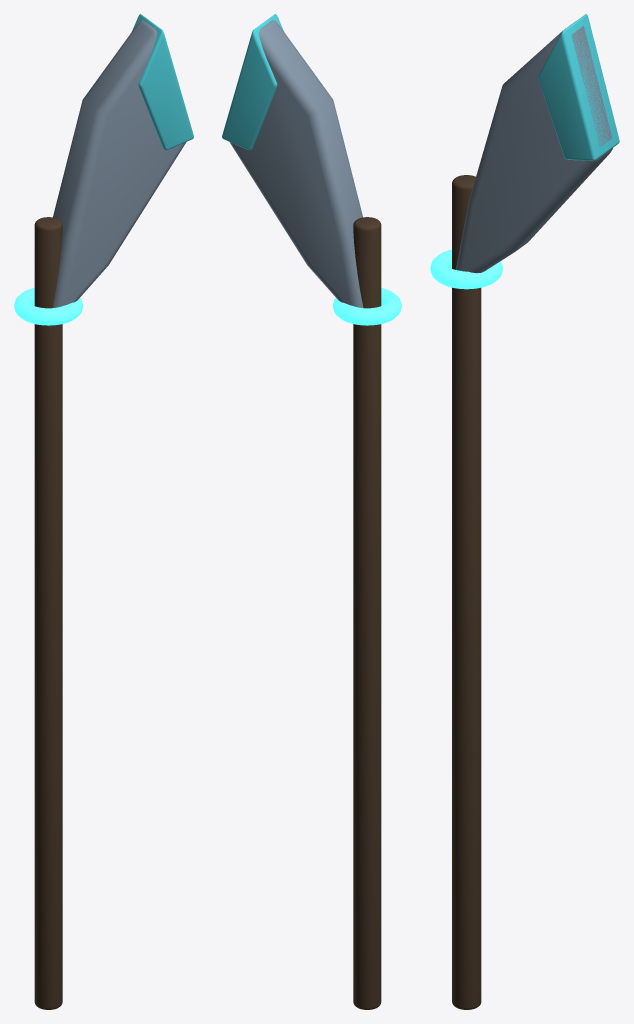
The model's file is spear_v3.glb.
3 views of the same model, side by side, from view 1: azimuth 30°, elevation 25°; view 2: azimuth 150°, elevation 25°; view 3: azimuth 330°, elevation 25° (orthographic). The views are drawn at different scales.
Visible parts, largest first — view 1: SHAFT_SECONDARY, GLAIVE_BLADE_PRIMARY, GLAIVE_EDGE_ACCENT, GLAIVE_COLLAR_EMISSIVE; view 2: SHAFT_SECONDARY, GLAIVE_BLADE_PRIMARY, GLAIVE_EDGE_ACCENT, GLAIVE_COLLAR_EMISSIVE; view 3: SHAFT_SECONDARY, GLAIVE_BLADE_PRIMARY, GLAIVE_EDGE_ACCENT, GLAIVE_COLLAR_EMISSIVE.
Boxes of the visible parts, box(x1,y1,x2,y2) form: SHAFT_SECONDARY: box(34, 217, 62, 1009); GLAIVE_BLADE_PRIMARY: box(49, 20, 186, 326); GLAIVE_EDGE_ACCENT: box(132, 14, 193, 150); GLAIVE_COLLAR_EMISSIVE: box(14, 288, 82, 325); SHAFT_SECONDARY: box(353, 217, 381, 1009); GLAIVE_BLADE_PRIMARY: box(229, 20, 366, 326); GLAIVE_EDGE_ACCENT: box(222, 14, 283, 150); GLAIVE_COLLAR_EMISSIVE: box(333, 288, 401, 325); SHAFT_SECONDARY: box(452, 175, 481, 1009); GLAIVE_BLADE_PRIMARY: box(456, 21, 612, 273); GLAIVE_EDGE_ACCENT: box(538, 14, 619, 160); GLAIVE_COLLAR_EMISSIVE: box(430, 249, 502, 289).
Size of the model in its own units: 0.8764 by 4.89 by 0.32.
